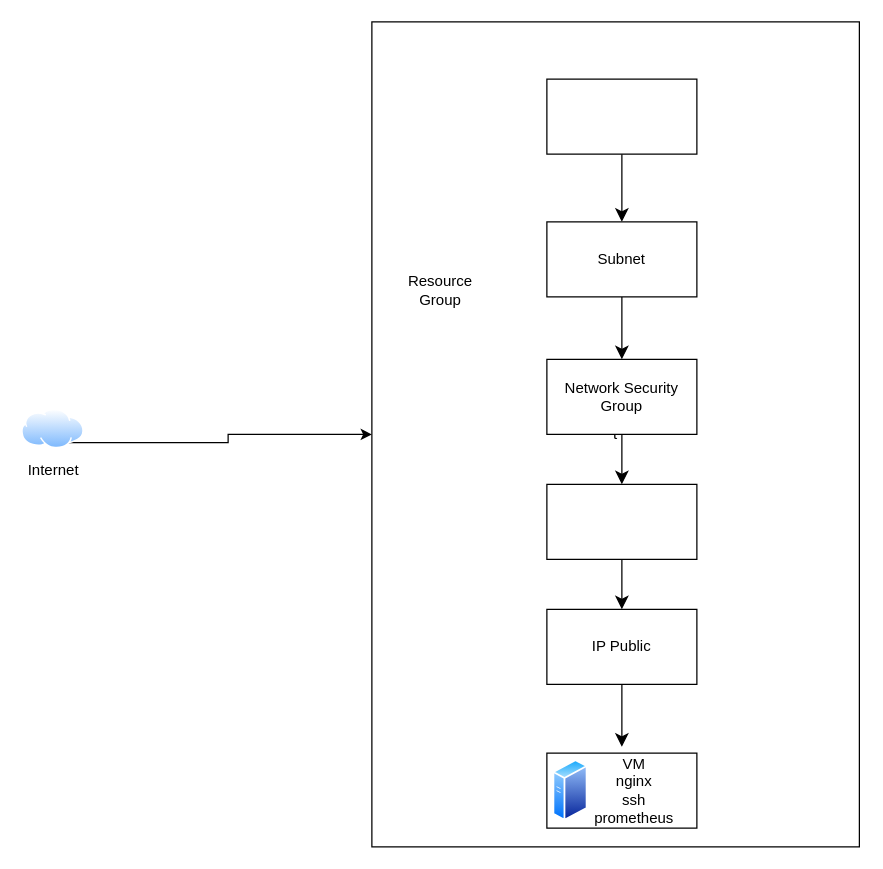
This 883x869 diagram has some shape labels left out. Here are the shapes that lost their labels. From the top down, the centre of each, then its label:
pixel 621 116: Virtual Network
pixel 621 521: Network Interface
